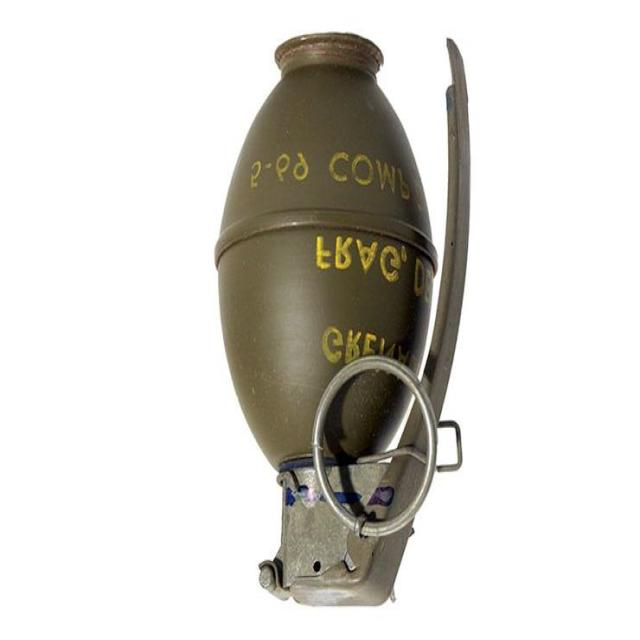grenade: (214, 32, 473, 610)
